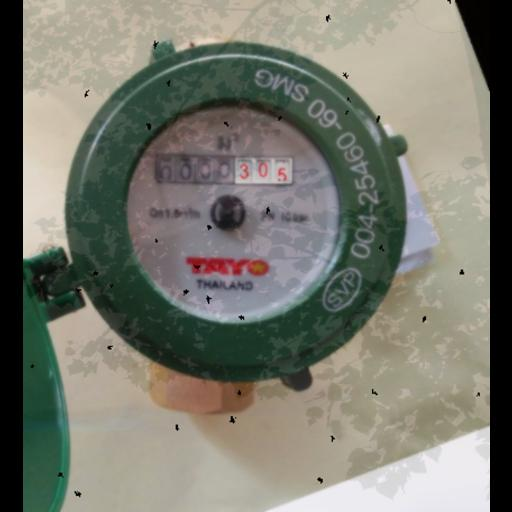0: (158, 157, 172, 181), (177, 158, 191, 181), (197, 158, 211, 181), (217, 159, 230, 182), (255, 161, 269, 181)
3: (237, 161, 251, 181)
5: (275, 160, 288, 182)
border_water_meter_number: (155, 154, 293, 187)
